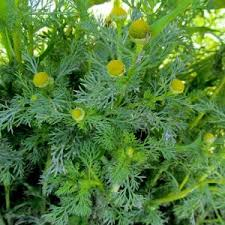pineple: (94, 58, 225, 175)
